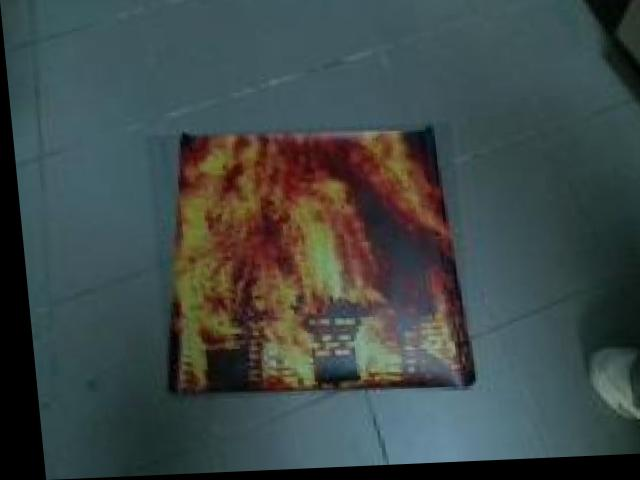fire-poster: (139, 122, 473, 405)
